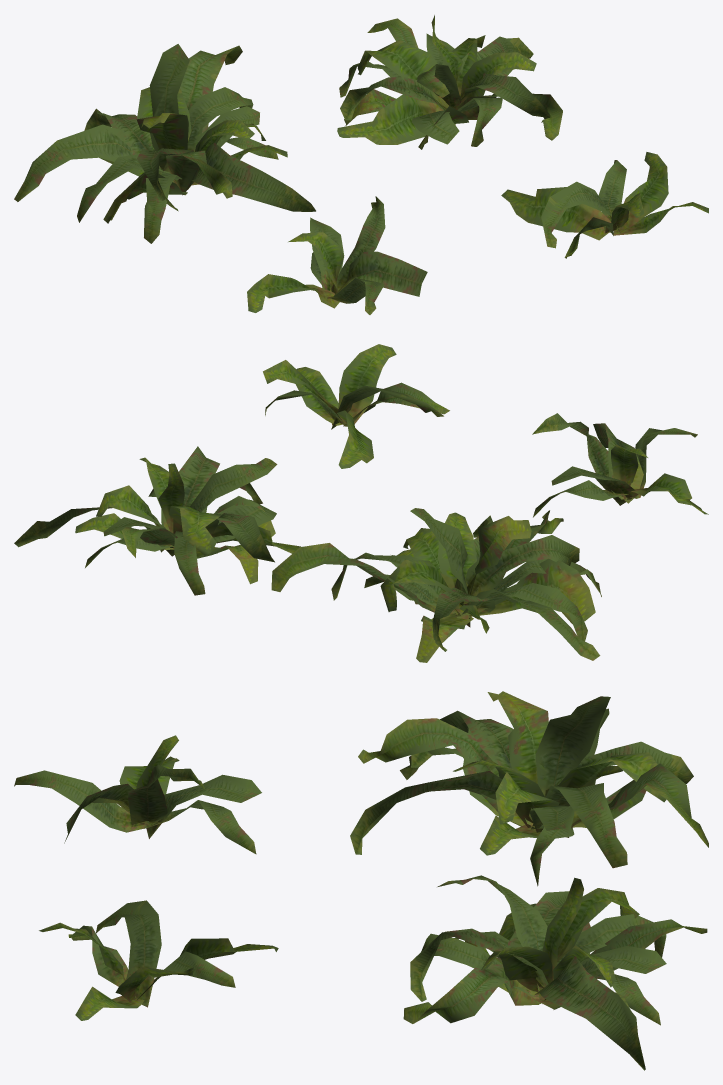
The model's file is fern_02.glb.
3 views of the same model, one above another, from view 1: azimuth 30°, elevation 25°; view 2: azimuth 150°, elevation 25°; view 3: azimuth 270°, elevation 25° (orthographic). The views are drawn at different scales.
Visible parts, largest first — view 1: fern_02_b; view 2: fern_02_b; view 3: fern_02_b.
Boxes of the visible parts, x1,y1,x2,y2 form: fern_02_b: (14, 15, 708, 314); fern_02_b: (14, 344, 708, 662); fern_02_b: (14, 691, 708, 1070).
Bounding box in the file's own units: 1.97 × 0.4277 × 1.72.
Materials: 1 (1 with a texture image).
